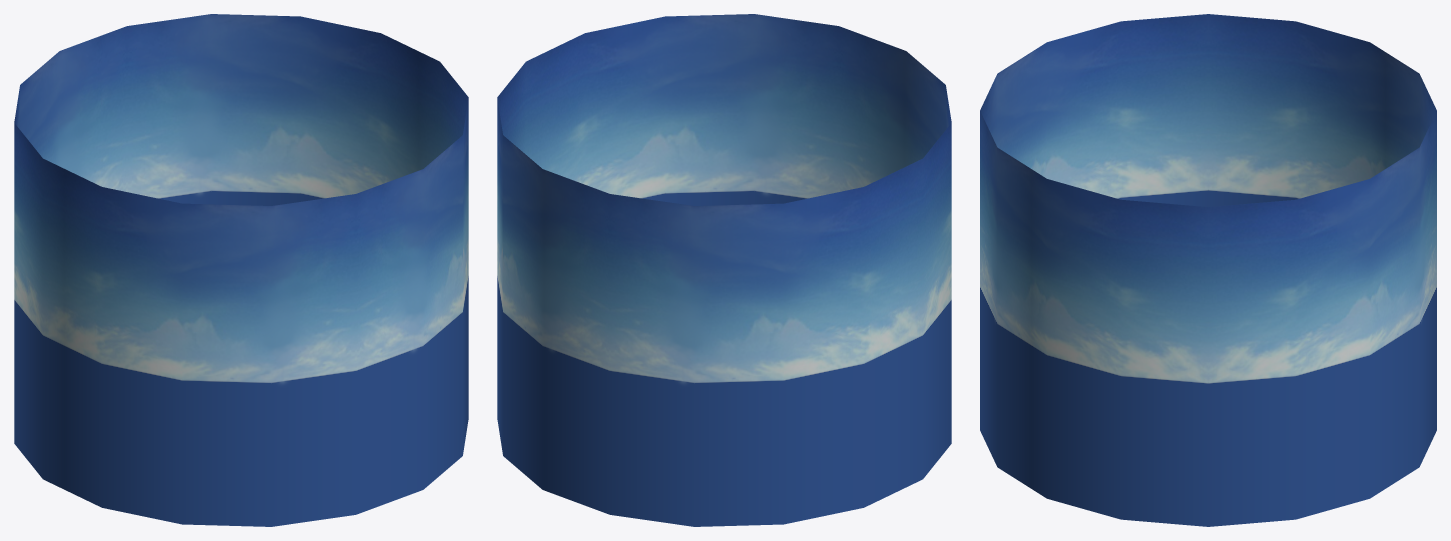
The picture shows the model from 3 angles, left to right: view 1: azimuth 30°, elevation 25°; view 2: azimuth 150°, elevation 25°; view 3: azimuth 270°, elevation 25°; orthographic projection.
Visible parts, largest first — view 1: Object002; view 2: Object002; view 3: Object002.
Boxes of the visible parts, <box> form: Object002: <box>14,14,468,526</box>; Object002: <box>497,14,951,526</box>; Object002: <box>980,14,1436,526</box>.
Size of the model in its own units: 14990 by 11580 by 14990.
Materials: 1 (1 with a texture image).
